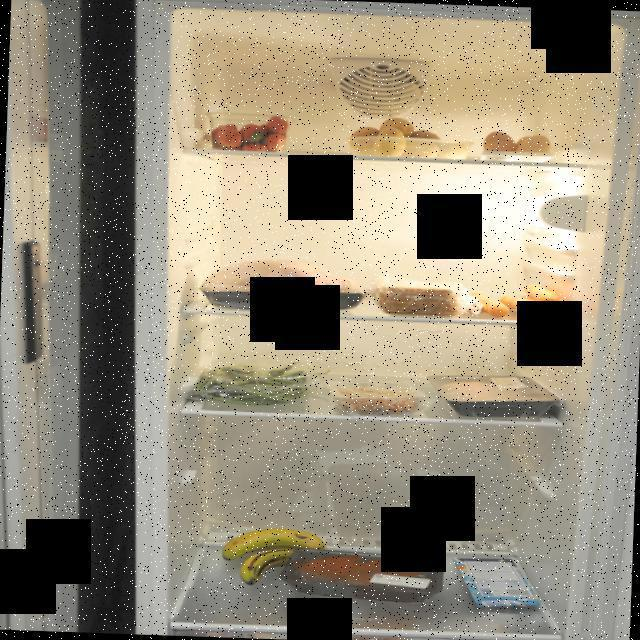banana: (214, 524, 342, 590)
beef: (276, 545, 448, 608)
bread: (369, 280, 466, 317)
carrot: (466, 277, 569, 320)
chicken: (193, 251, 371, 312)
chicken_breast: (424, 371, 562, 418)
chocolate: (448, 554, 544, 612)
eggs: (480, 128, 554, 161)
green_beans: (186, 360, 332, 410)
potato: (345, 114, 476, 162)
shrimp: (329, 383, 428, 417)
strawberries: (205, 110, 292, 154)
